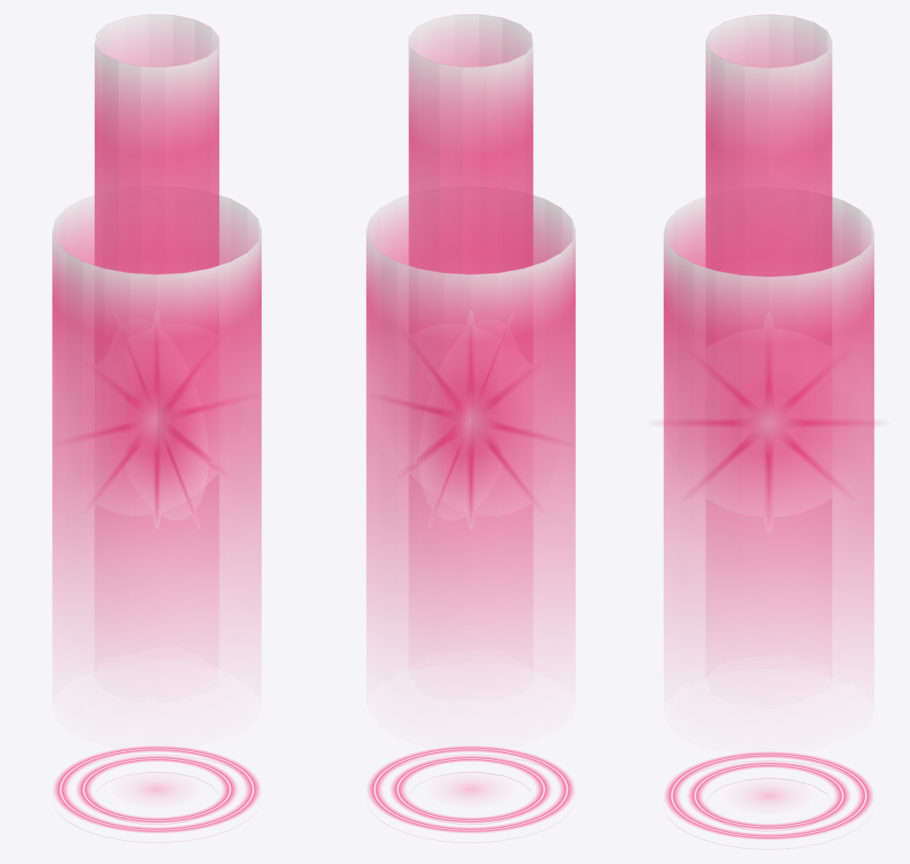
The model's file is fx_up_mine.glb.
The picture shows the model from 3 angles, left to right: view 1: azimuth 30°, elevation 25°; view 2: azimuth 150°, elevation 25°; view 3: azimuth 270°, elevation 25°; orthographic projection.
Visible parts, largest first — view 1: fx_up_pillar, fx_up_star, fx_up_ring; view 2: fx_up_pillar, fx_up_star, fx_up_ring; view 3: fx_up_pillar, fx_up_star, fx_up_ring.
Part boxes in pixels (x1,y1,x2,y2): fx_up_pillar: (52, 14, 261, 842); fx_up_star: (64, 347, 239, 517); fx_up_ring: (54, 746, 259, 832); fx_up_pillar: (366, 14, 575, 842); fx_up_star: (387, 342, 563, 516); fx_up_ring: (368, 746, 573, 832); fx_up_pillar: (663, 14, 874, 849); fx_up_star: (661, 352, 876, 510); fx_up_ring: (665, 752, 872, 839).
Bounding box in the file's own units: 1.2 × 4 × 1.2.
3 materials, 3 textured.
